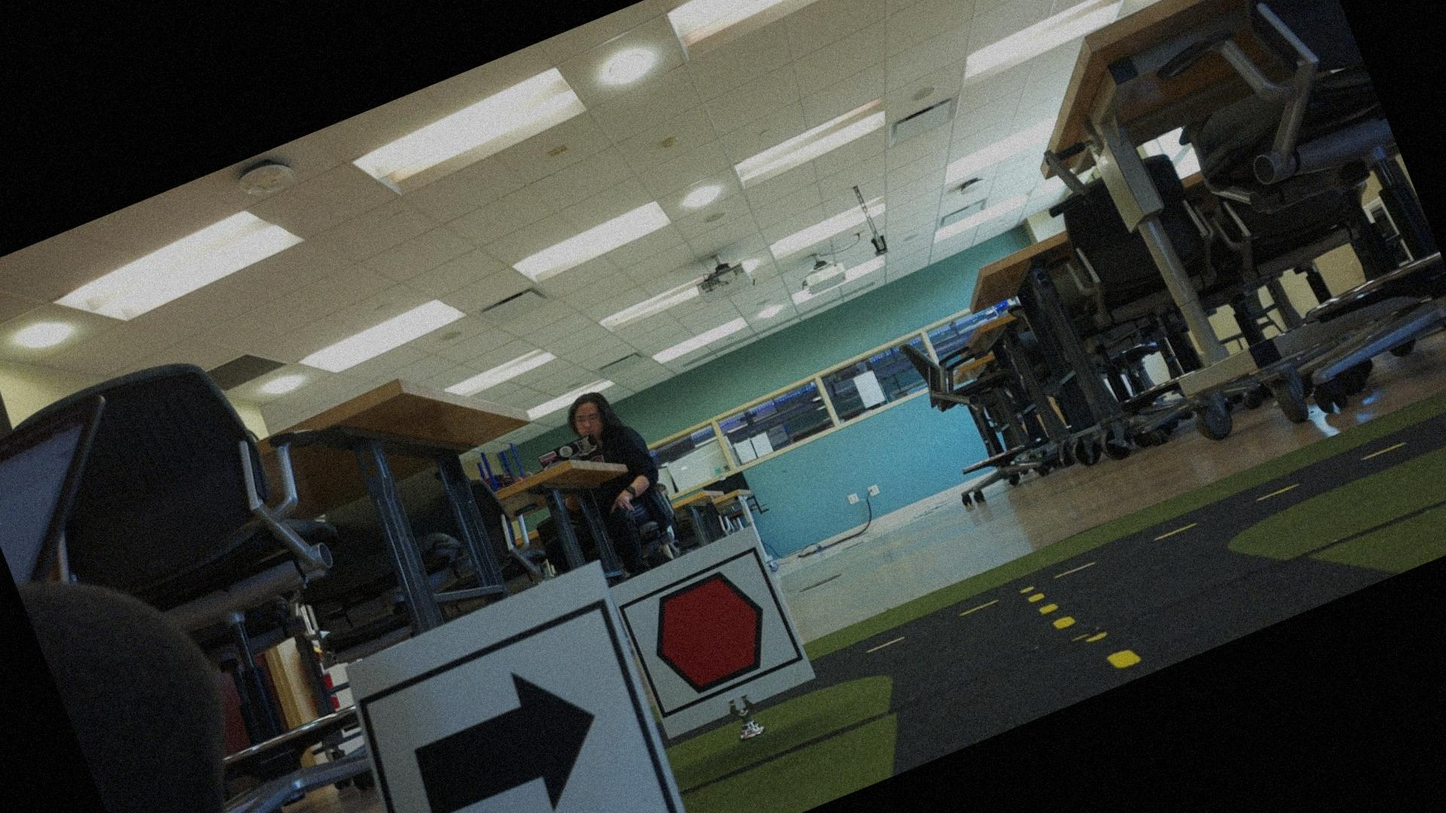stop: (621, 549, 801, 713)
turnright: (357, 605, 680, 812)
yellowline: (1026, 565, 1145, 696)
